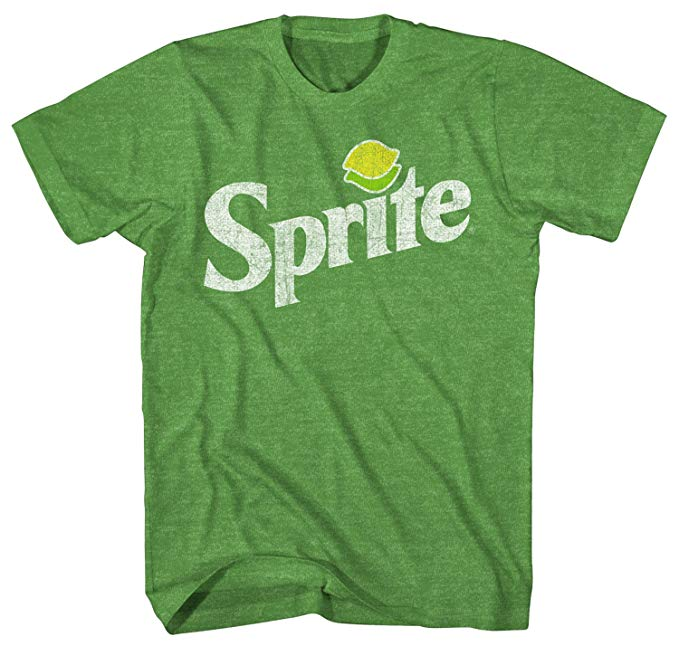sprite: (203, 163, 471, 306)
